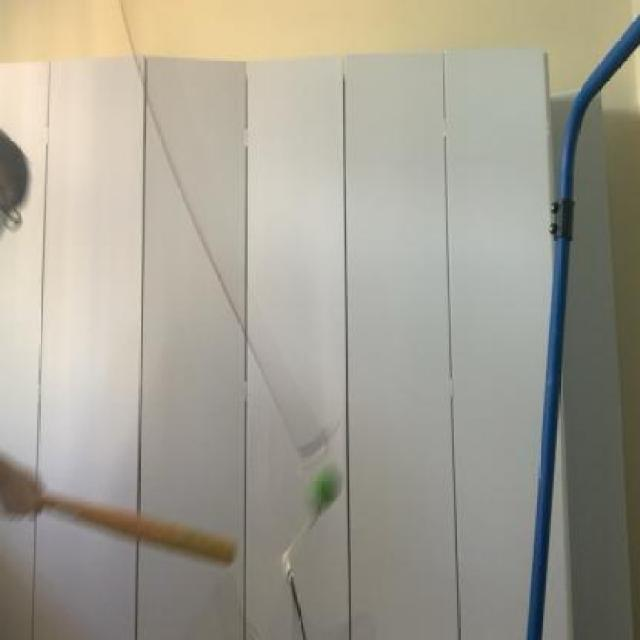baseball: (303, 456, 352, 527)
